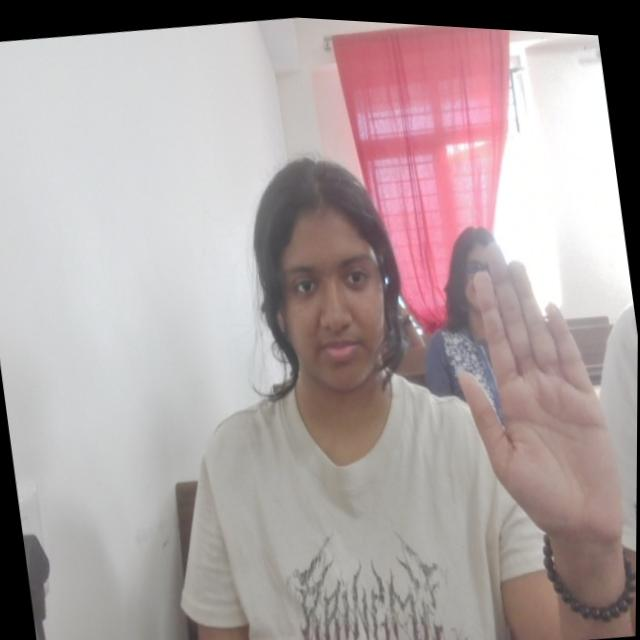hello: (437, 215, 632, 556)
